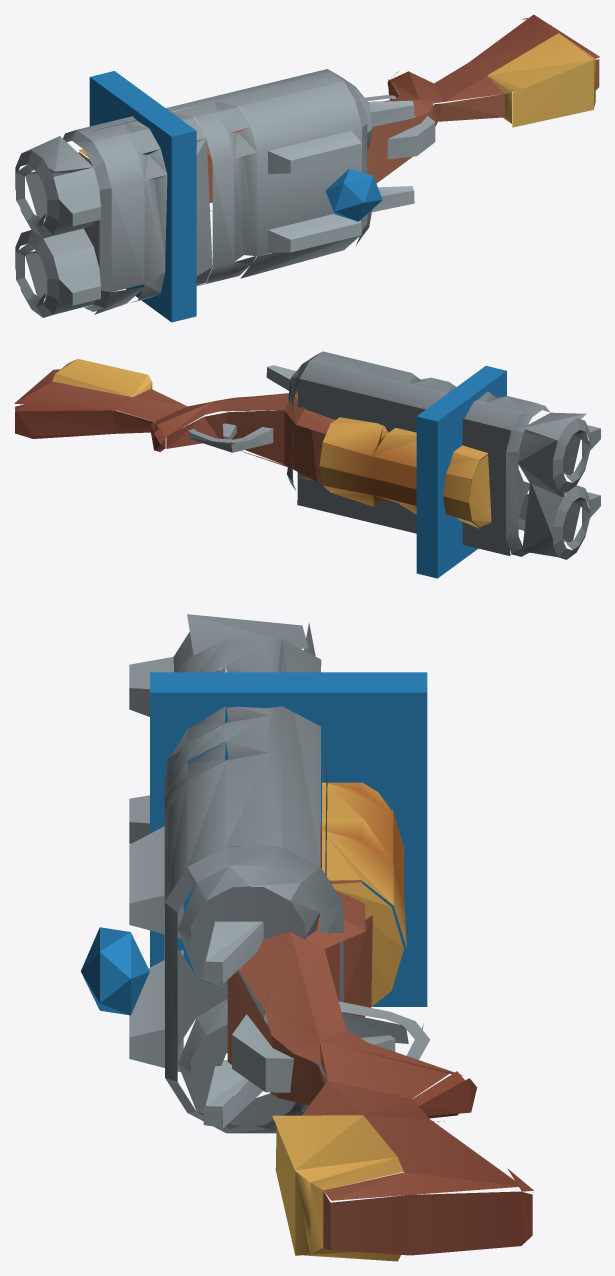
The model's file is engineer_sword_t2.glb.
The picture shows the model from 3 angles, top to bottom: view 1: azimuth 30°, elevation 25°; view 2: azimuth 150°, elevation 25°; view 3: azimuth 270°, elevation 25°; orthographic projection. The views are drawn at different scales.
Parts seen in each view (by area): view 1: engineer_sword_t2__handslot_r; view 2: engineer_sword_t2__handslot_r; view 3: engineer_sword_t2__handslot_r.
Boxes of the visible parts, x1,y1,x2,y2 form: engineer_sword_t2__handslot_r: [15, 14, 599, 322]; engineer_sword_t2__handslot_r: [14, 351, 600, 578]; engineer_sword_t2__handslot_r: [80, 614, 533, 1261].
Bounding box in the file's own units: 1.68 × 0.5 × 0.6544.
Materials: 2 (2 with a texture image).
